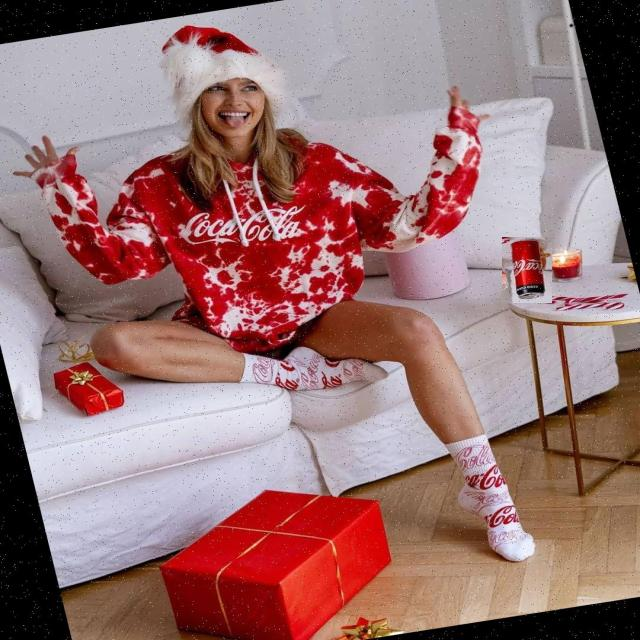coca-cola: (502, 237, 552, 303)
